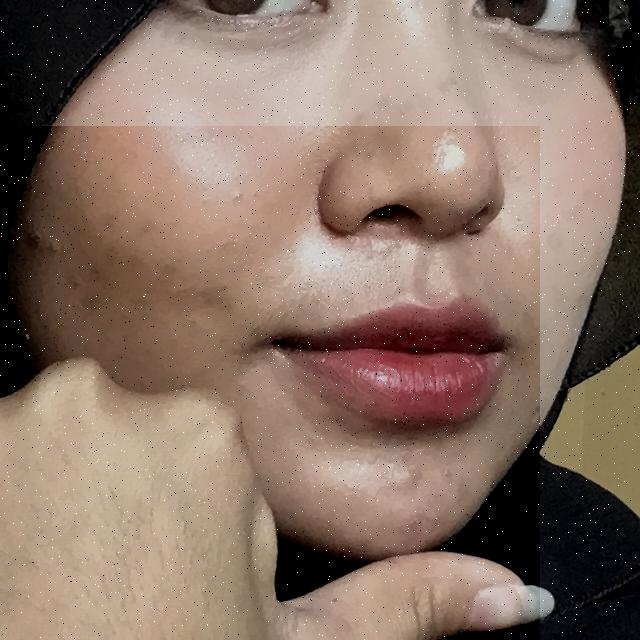telpon: (0, 126, 540, 640)
